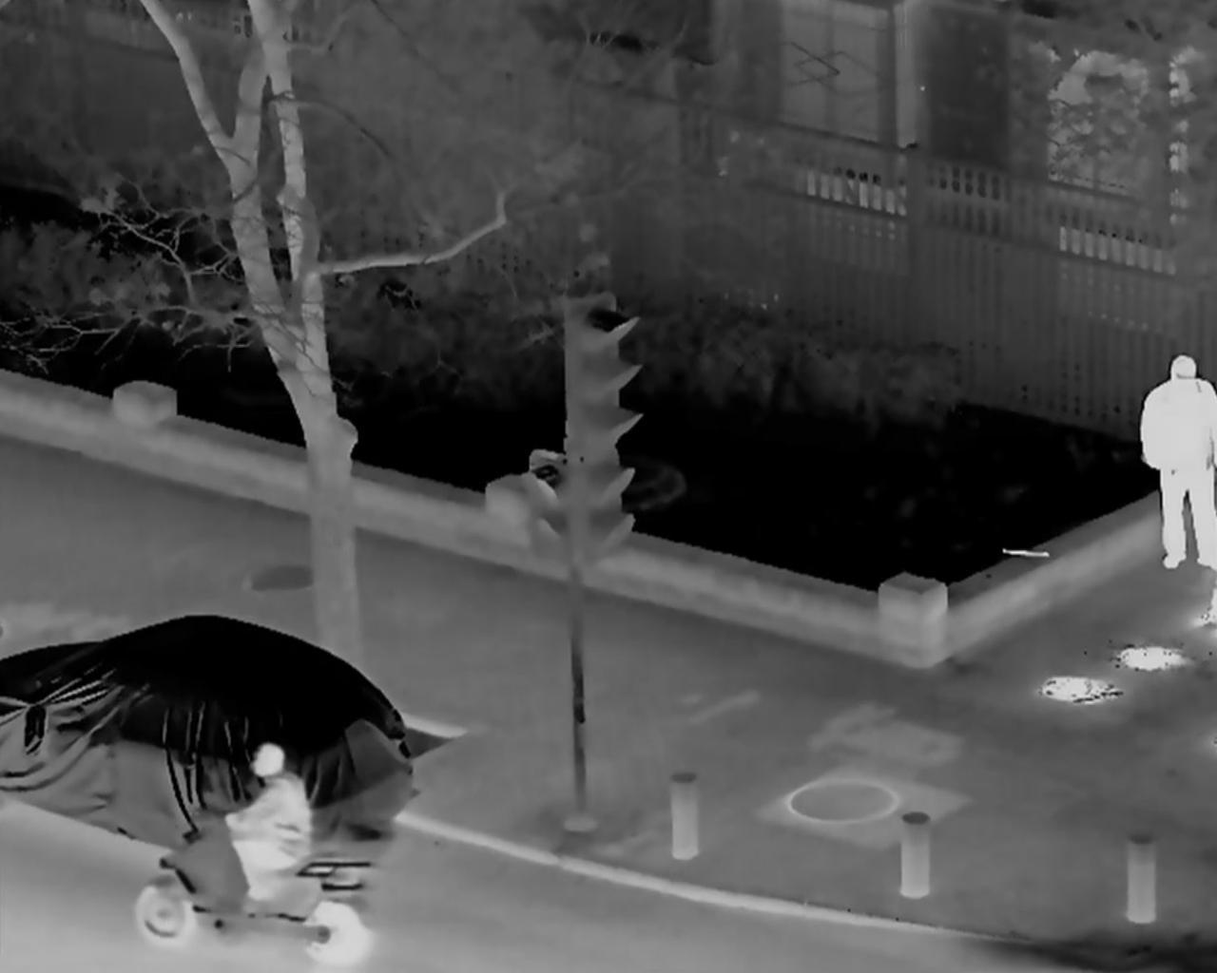person: (1136, 348, 1213, 578), (217, 738, 311, 915)
